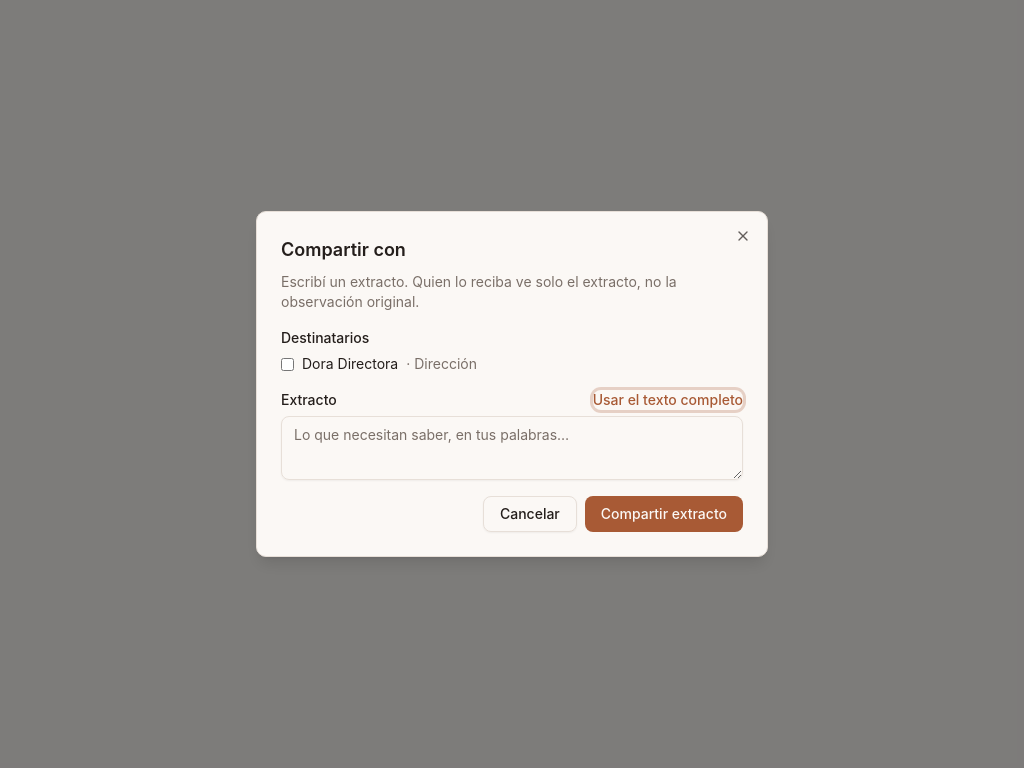
ShareCommentDialog › explains the length cap instead of failing when the full text is too long to share
Click the checkbox labelled "Dora Directora · Dirección": (288, 364) [281,358,294,370]
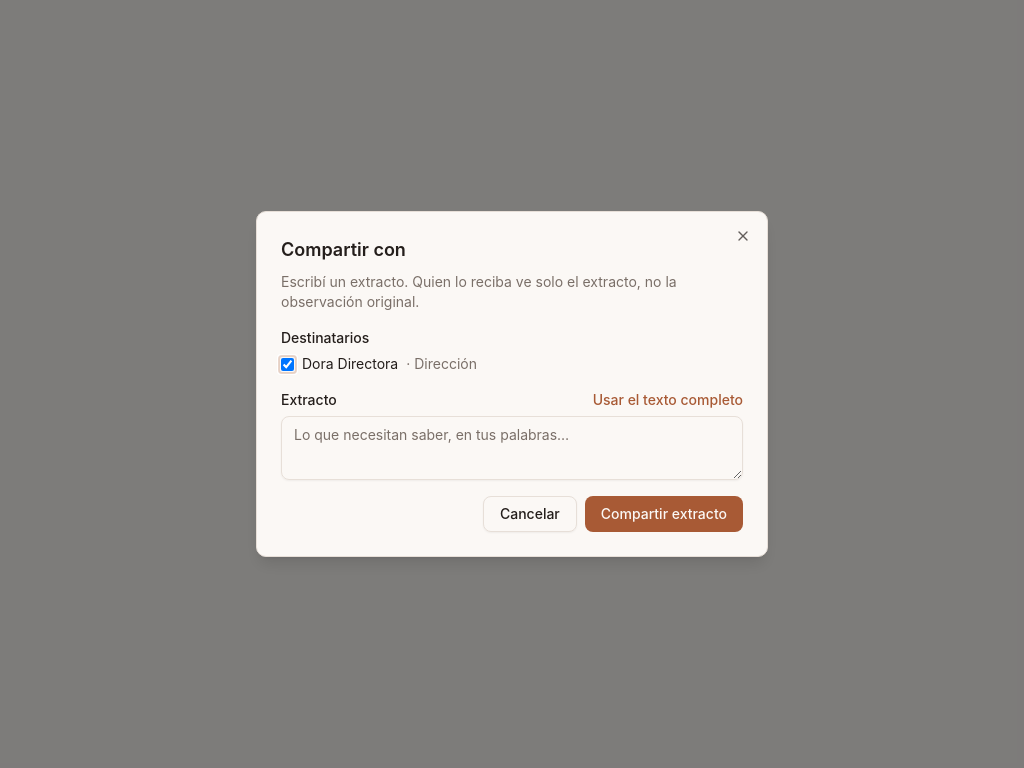
Click the button "Usar el texto completo": (668, 400) [593,390,743,410]
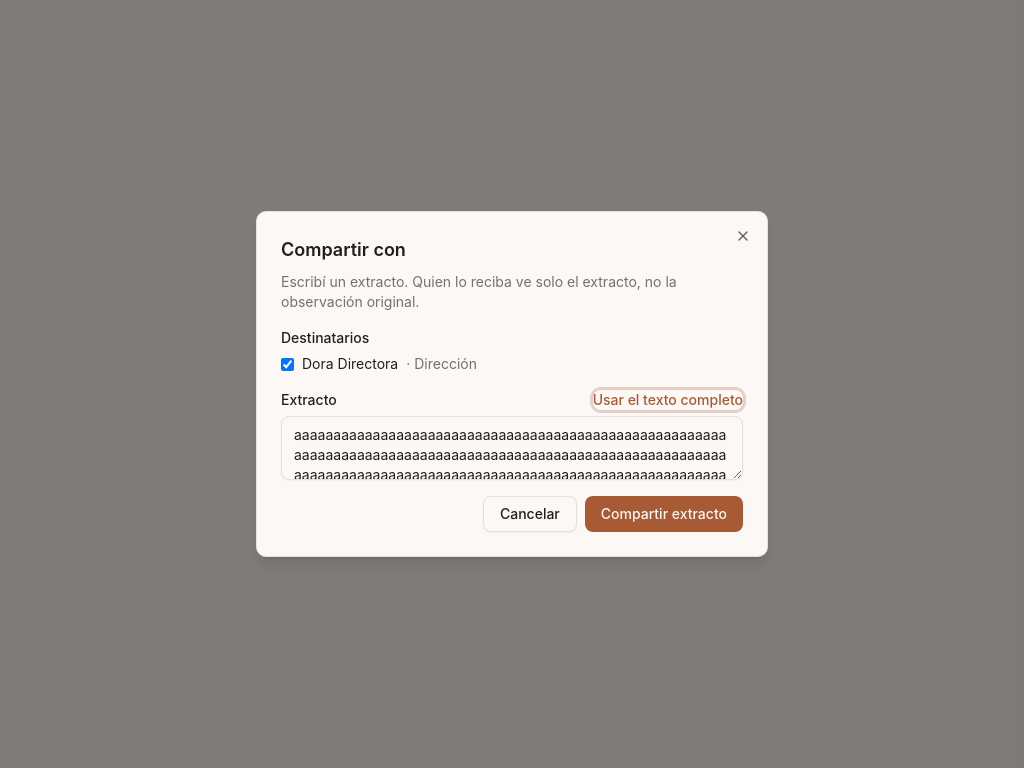
Click the button "Compartir extracto": (664, 514) [585,496,743,532]
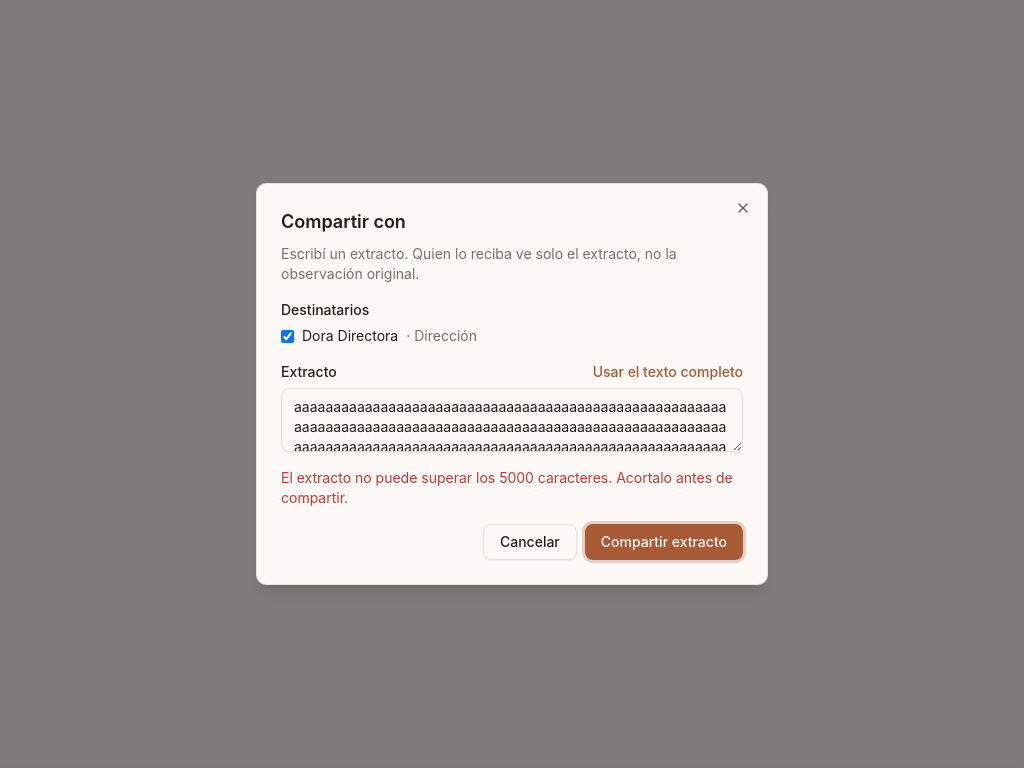
Expected: the text "no puede superar los 5000 caracteres" is shown, [281,469,733,506]
